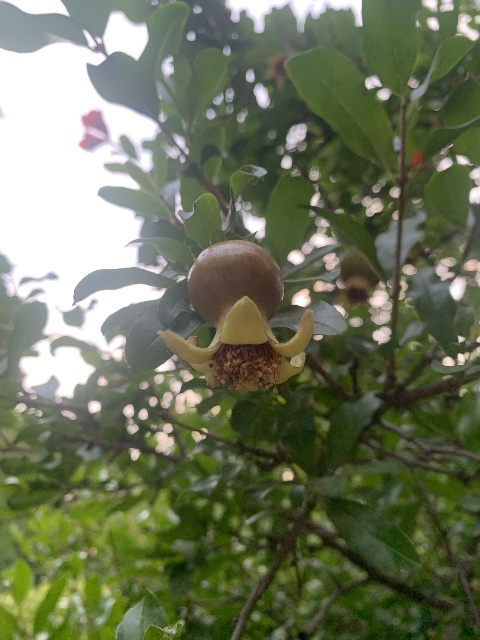early-fruit: (156, 240, 313, 393)
mid-growth: (332, 251, 379, 305)
